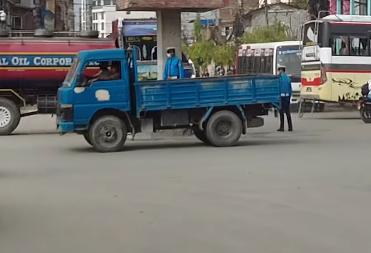bus: (299, 15, 371, 107), (236, 38, 304, 79)
mini_truck: (51, 40, 283, 158), (3, 16, 169, 107)
